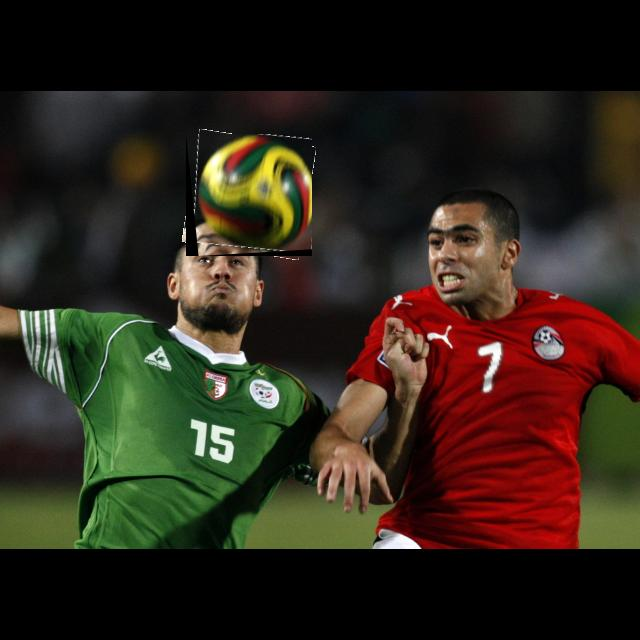Football: (186, 134, 312, 256)
